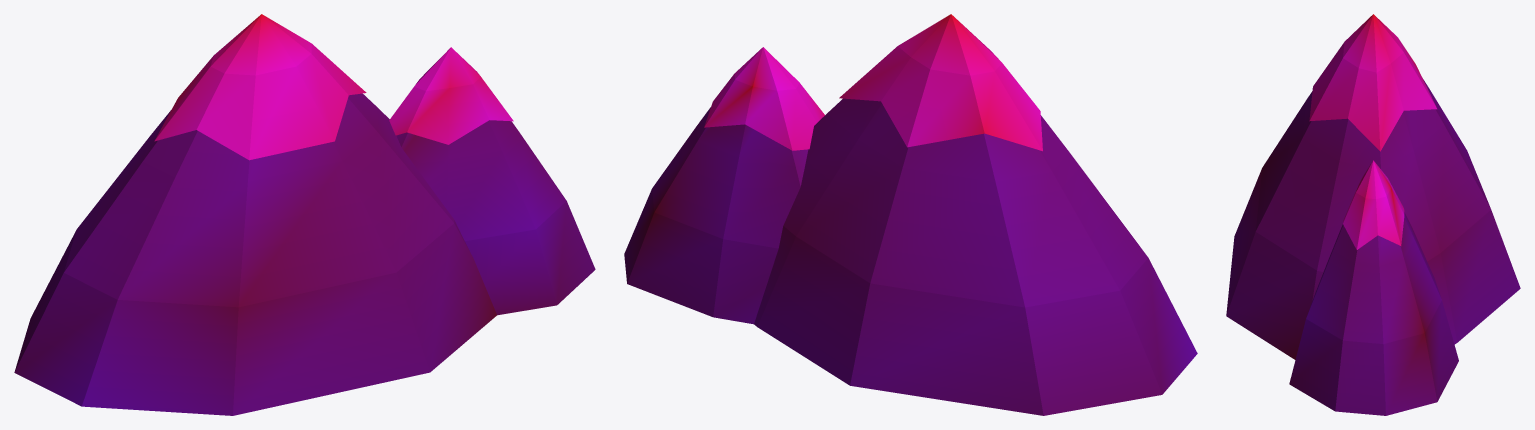
File: Mountain_Back_02.glb
The picture shows the model from 3 angles, left to right: view 1: azimuth 30°, elevation 25°; view 2: azimuth 150°, elevation 25°; view 3: azimuth 270°, elevation 25°; orthographic projection. The views are drawn at different scales.
Visible parts, largest first — view 1: Mountain_Back_02; view 2: Mountain_Back_02; view 3: Mountain_Back_02.
Boxes of the visible parts, x1=… form: Mountain_Back_02: x1=14, y1=14, x2=595, y2=415; Mountain_Back_02: x1=624, y1=14, x2=1197, y2=415; Mountain_Back_02: x1=1226, y1=14, x2=1520, y2=415.
Size of the model in its own units: 66.48 by 36.25 by 36.07.
